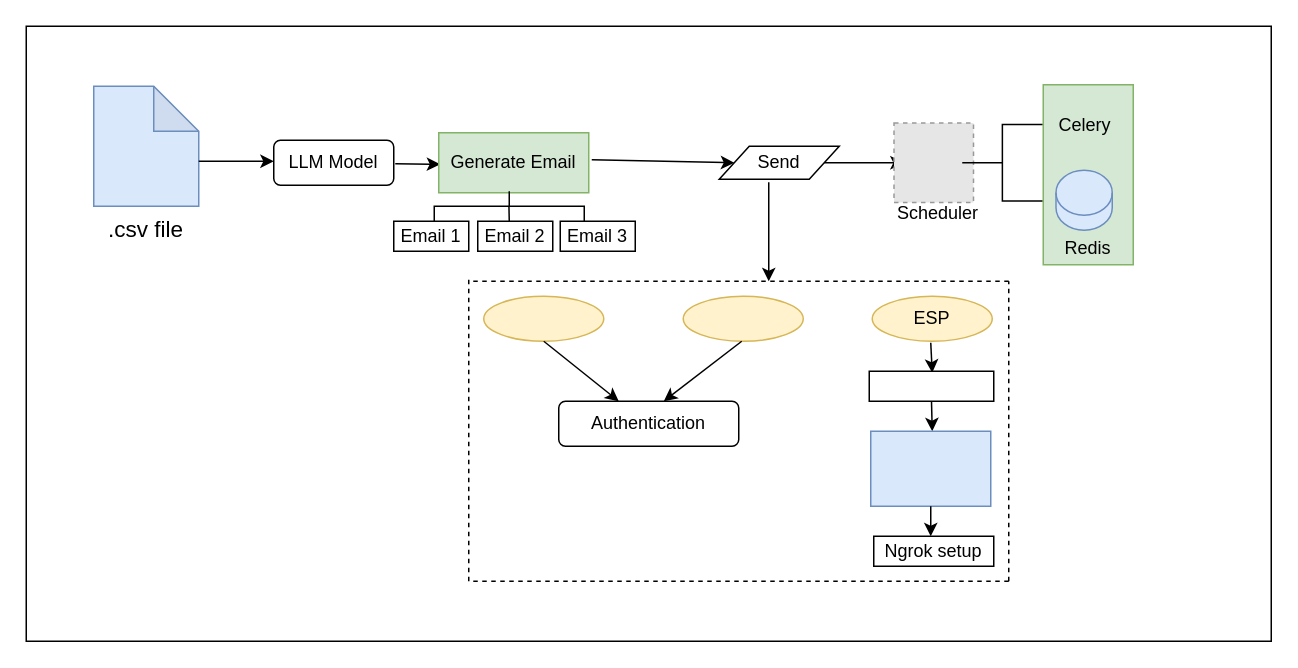
The diagram is 1298 pixels wide and 668 high, and some of its shapes have lost their labels. Grey dashed boxes stand in for pictures. The centre of each missing label's shape, as x and y in pixels:
"Google" belongs at pixel 543 318.
"Outlook" belongs at pixel 742 318.
"Send Grid" belongs at pixel 931 385.
"Web Hook Setup" belongs at pixel 930 468.
